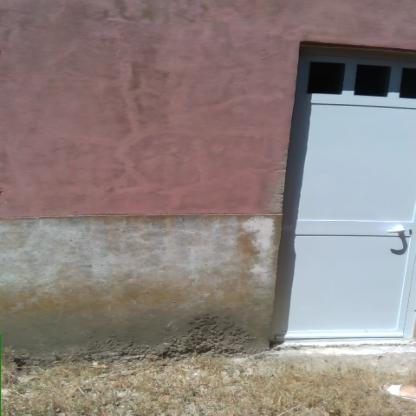closed: (271, 33, 415, 372)
